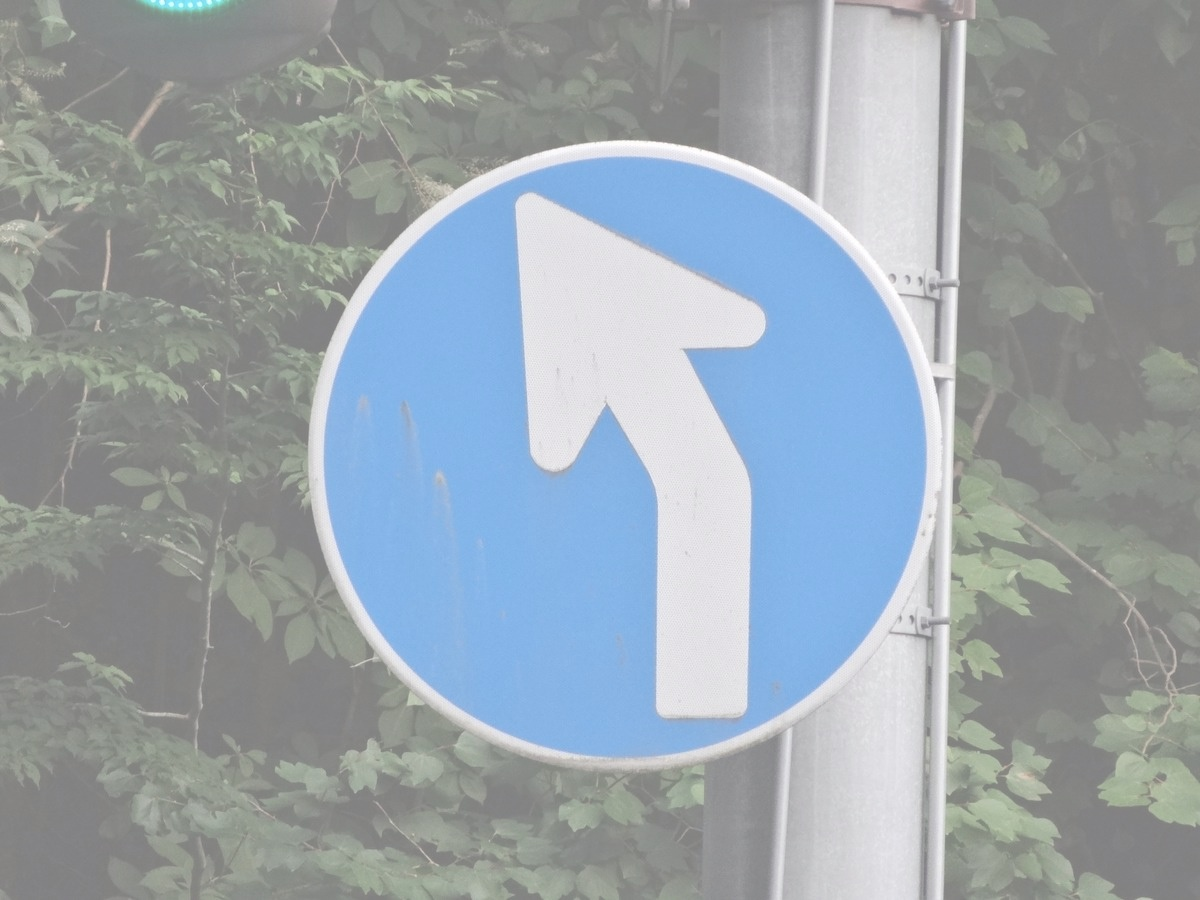Direction_sign: (247, 121, 952, 774)
